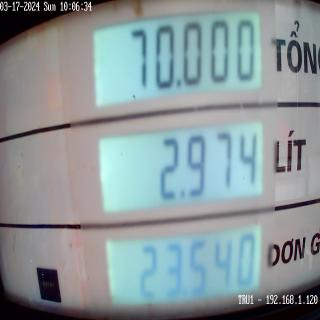screen: (87, 0, 267, 319)
